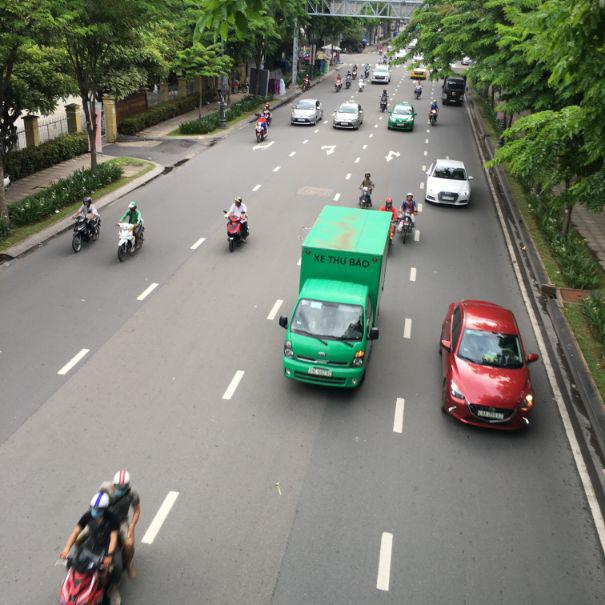car: (440, 298, 537, 431), (423, 158, 473, 206), (288, 100, 322, 126), (386, 103, 416, 132), (334, 103, 364, 131), (442, 77, 467, 106), (372, 63, 392, 82), (410, 66, 429, 79)
motorbike: (59, 472, 142, 605), (116, 222, 144, 262), (70, 216, 100, 253), (226, 214, 251, 254), (255, 118, 270, 141), (358, 189, 373, 208)
truck: (282, 204, 397, 390)
